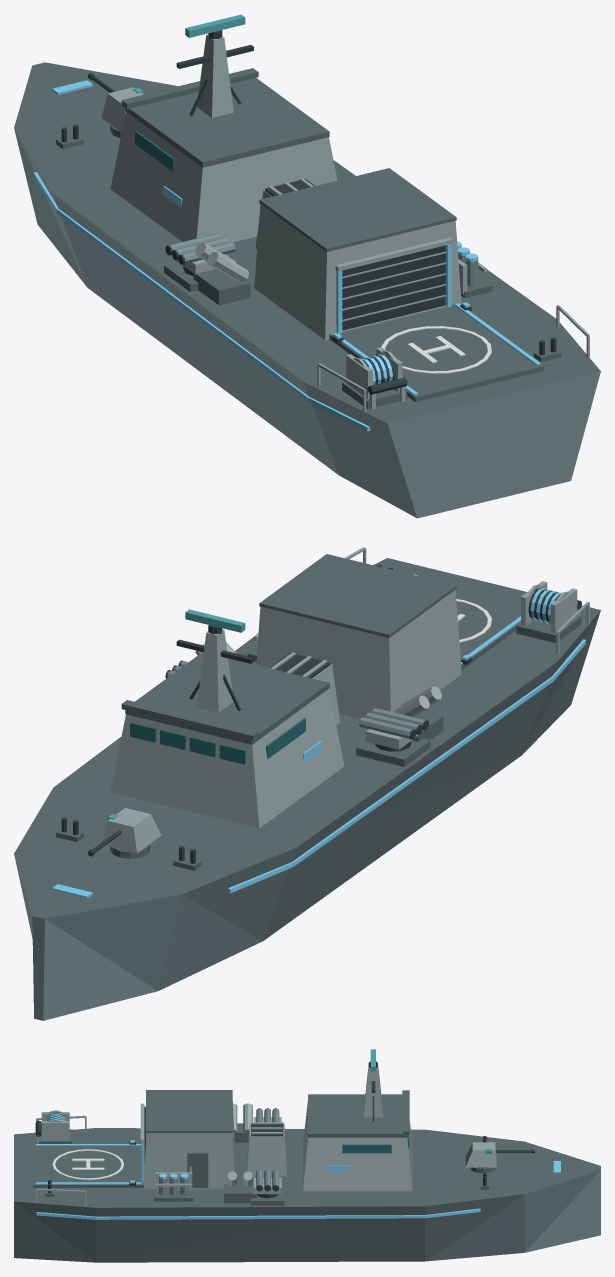
Rendered from ESC_ASW_T2.fbx.
3 views of the same model, one above another, from view 1: azimuth 30°, elevation 25°; view 2: azimuth 150°, elevation 25°; view 3: azimuth 270°, elevation 25° (orthographic). The views are drawn at different scales.
Parts seen in each view (by area): view 1: ContinuousHull.005, Deckhouse.005, HelicopterHangar, Roof.005, HelicopterDeck.001, HangarRoof, AftFacingHangarDoor, NavMast.001, RoleHullStripe-1_1.005, DepthLauncherBase.002, BridgeBrow.005, HangarDoorHeader (+5 smaller); view 2: ContinuousHull.005, Deckhouse.005, HelicopterHangar, HangarRoof, Roof.005, HelicopterDeck.001, NavMast.001, PrimaryGunCupola.005, RoleHullStripe-1_1.005, BridgeBrow.005, TorpedoFoot_P.001, TowSonarWinchFoot (+3 smaller); view 3: ContinuousHull.005, Deckhouse.005, HelicopterDeck.001, HelicopterHangar, Roof.005, HangarRoof, FunnelEnclosure.005, RoleHullStripe1_1.005, NavMast.001, PrimaryGunCupola.005, HangarPersonnelHatch, DepthLauncherBase.003 (+7 smaller).
Part boxes in pixels (x1,y1,x2,y2): ContinuousHull.005: (14,62,600,518); Deckhouse.005: (110,112,337,242); HelicopterHangar: (254,204,461,340); Roof.005: (125,78,329,167); HelicopterDeck.001: (329,304,543,402); HangarRoof: (259,168,456,251); AftFacingHangarDoor: (342,245,445,330); NavMast.001: (197,34,233,117); RoleHullStripe-1_1.005: (56,208,308,400); DepthLauncherBase.002: (193,269,250,305); BridgeBrow.005: (121,68,258,109); HangarDoorHeader: (335,237,453,271); ContinuousHull.005: (14,558,600,1020); Deckhouse.005: (110,689,344,828); HelicopterHangar: (256,590,461,718); HangarRoof: (259,554,456,637); Roof.005: (125,652,329,744); HelicopterDeck.001: (416,574,520,669); NavMast.001: (196,629,233,712); PrimaryGunCupola.005: (102,808,161,853); RoleHullStripe-1_1.005: (292,676,553,866); BridgeBrow.005: (121,700,258,740); TorpedoFoot_P.001: (356,738,430,766); TowSonarWinchFoot: (516,616,581,642); ContinuousHull.005: (14,1128,600,1262); Deckhouse.005: (303,1101,412,1191); HelicopterDeck.001: (33,1145,143,1187); HelicopterHangar: (143,1101,234,1189); Roof.005: (308,1094,407,1137); HangarRoof: (146,1090,232,1132); FunnelEnclosure.005: (247,1123,287,1176); RoleHullStripe1_1.005: (96,1215,424,1219); NavMast.001: (363,1065,382,1117); PrimaryGunCupola.005: (465,1142,496,1167); HangarPersonnelHatch: (187,1152,208,1187); DepthLauncherBase.003: (224,1184,256,1203).
Bounding box in the file's own units: 290 × 297 × 900.
